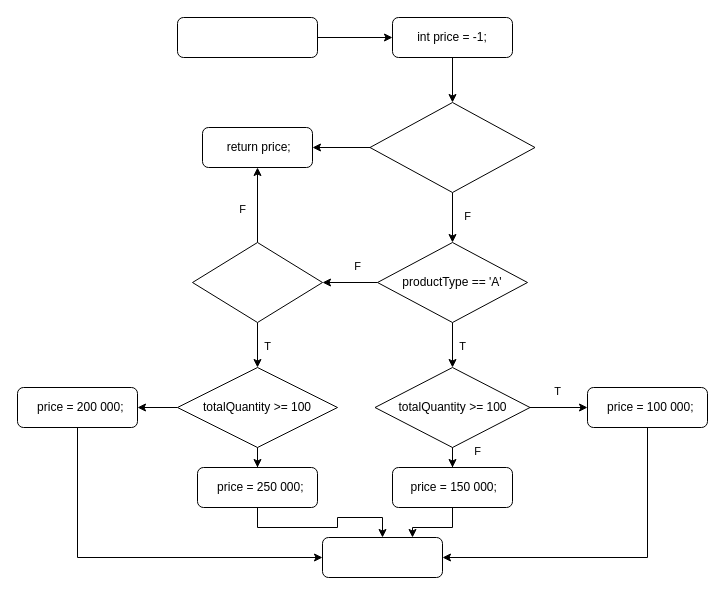
Image size: 725x595. Some labels were removed from this diagram. Here are the shapes that lost their labels. From the top down, the centre of each, then its label:
At [247,37]: "calculateProductPrice".
At [452,147]: "totalQuantity < 1 || totalQuantity > 999".
At [257,282]: "productType == 'B'".
At [382,557]: "return price".
